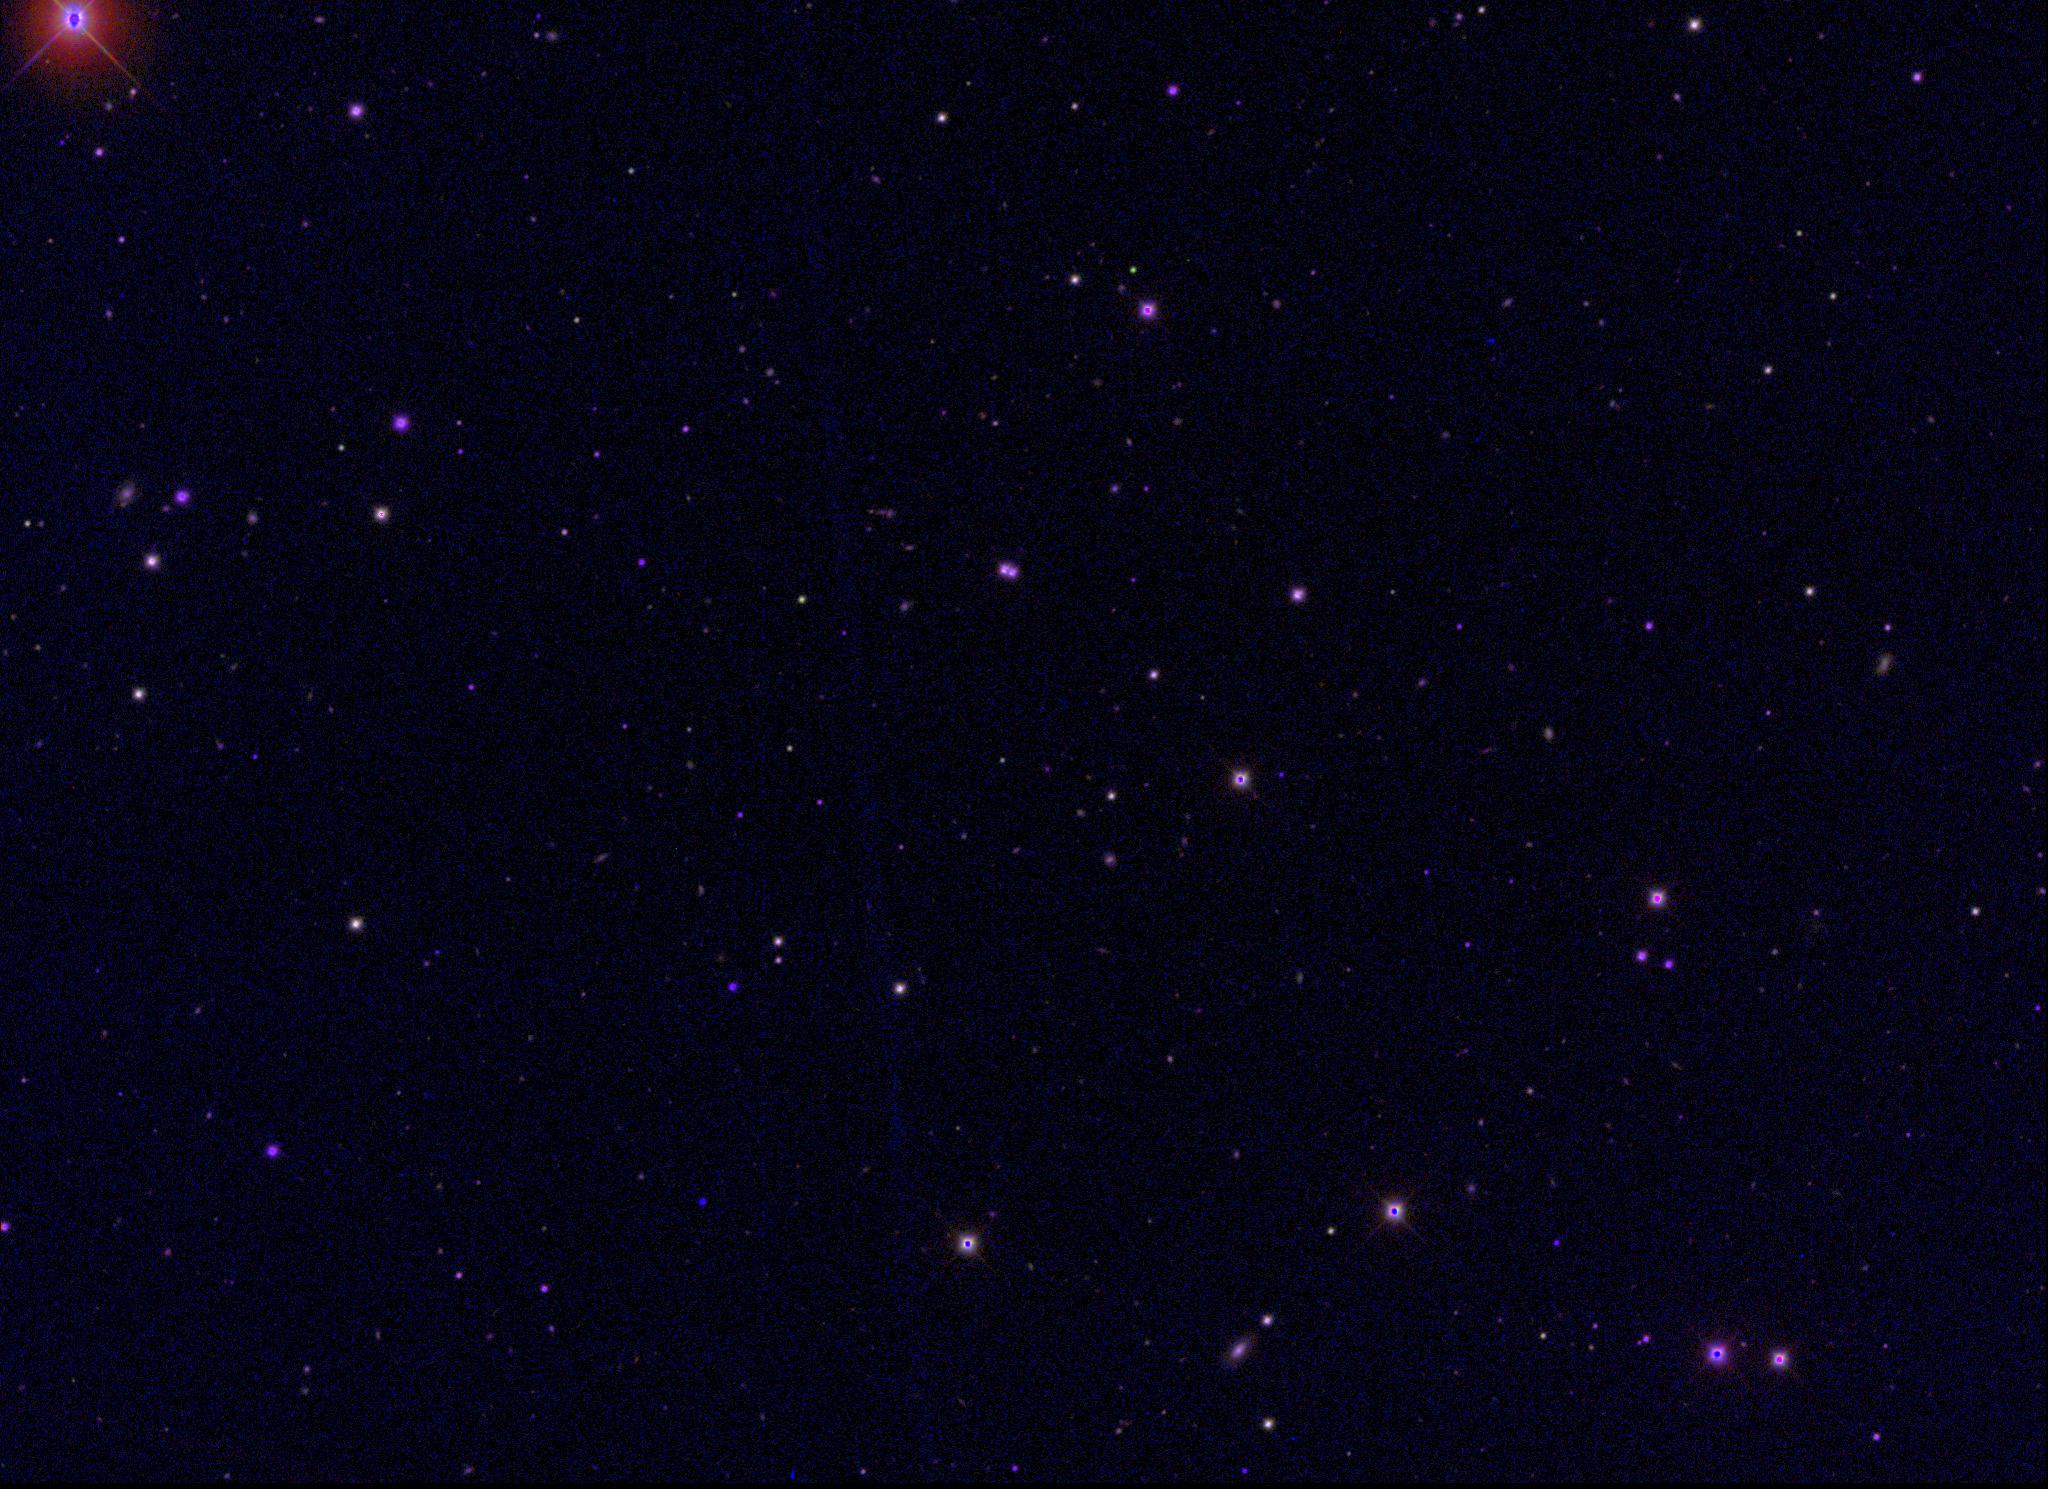L: (696, 1195, 711, 1209)
